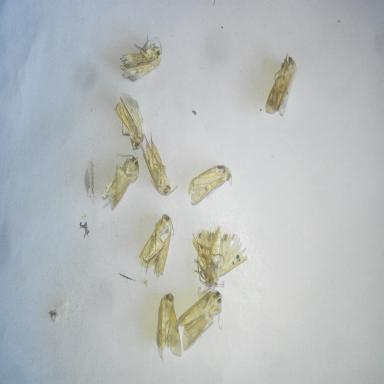abw: (189, 222, 250, 290), (173, 286, 228, 356), (113, 29, 164, 87), (139, 130, 181, 198), (260, 52, 300, 120), (99, 150, 141, 214), (137, 209, 174, 280), (152, 290, 184, 365), (186, 162, 234, 209), (111, 90, 145, 150)
